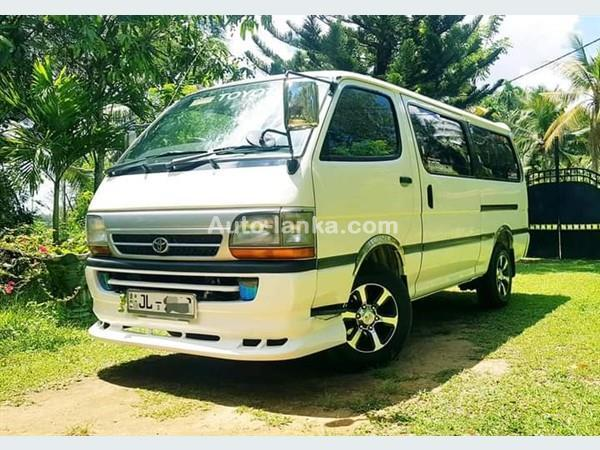van: (83, 70, 530, 368)
